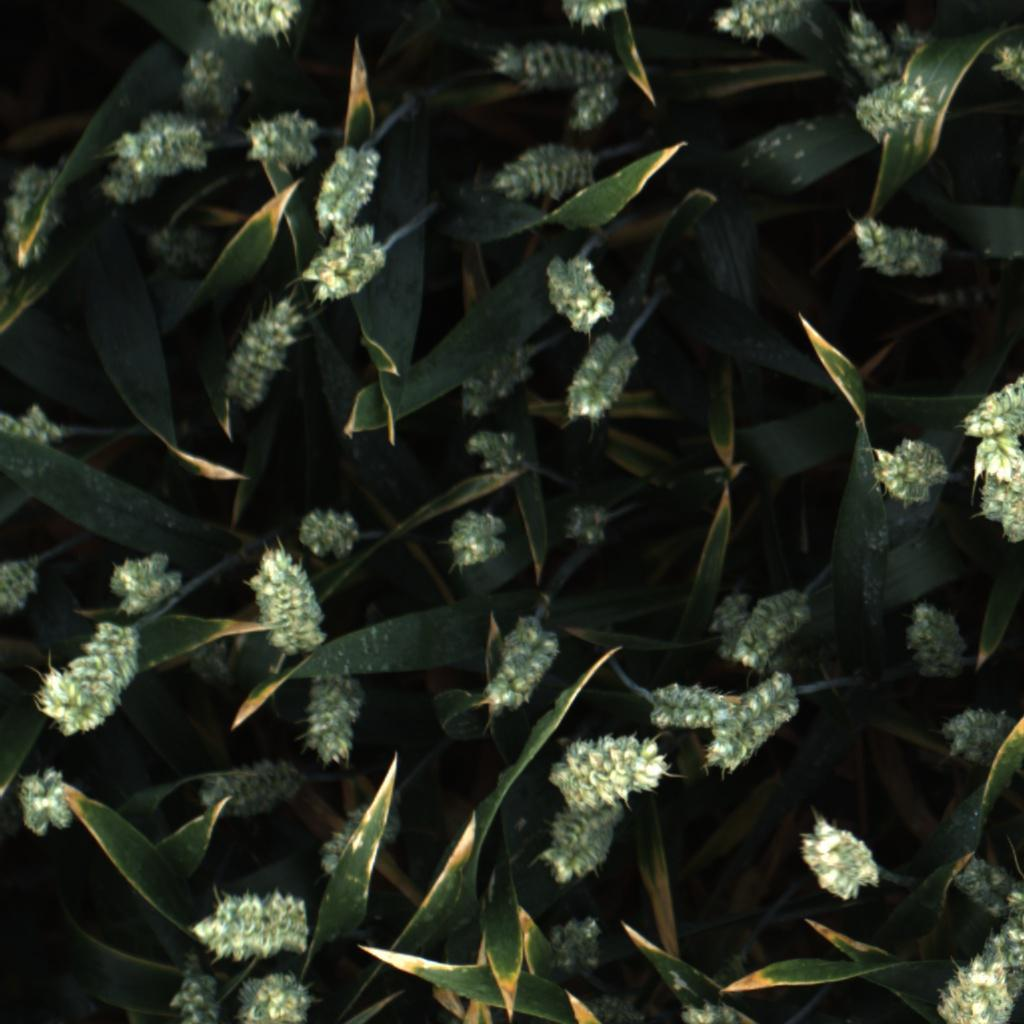0-0: (33, 625, 145, 744), (89, 107, 206, 215), (219, 293, 309, 410), (710, 667, 804, 778), (190, 883, 317, 963), (542, 734, 672, 806), (316, 785, 407, 885), (789, 816, 889, 903), (840, 209, 954, 285), (251, 545, 326, 656), (478, 618, 562, 715), (491, 133, 600, 206), (530, 805, 627, 886), (955, 435, 1024, 544), (562, 330, 638, 427), (537, 248, 622, 334), (304, 226, 394, 306), (861, 428, 952, 507), (898, 595, 977, 683), (489, 38, 613, 94), (301, 672, 370, 772), (733, 587, 815, 671), (8, 158, 68, 269), (195, 753, 299, 815), (310, 143, 383, 228), (849, 77, 940, 144), (108, 545, 184, 620), (700, 584, 757, 681), (942, 700, 1022, 767), (836, 2, 897, 89), (961, 357, 1024, 441), (709, 0, 821, 46), (458, 347, 531, 417), (541, 913, 614, 982), (650, 676, 733, 736), (240, 107, 321, 168), (553, 81, 632, 143), (182, 45, 243, 125), (142, 218, 220, 278), (205, 0, 300, 48), (14, 766, 75, 840), (439, 507, 509, 569), (292, 500, 365, 559), (949, 851, 1013, 916), (235, 970, 312, 1024), (0, 401, 67, 457), (913, 279, 1024, 312), (460, 424, 529, 476), (558, 494, 616, 549), (565, 989, 651, 1024), (163, 975, 224, 1024), (0, 552, 33, 629), (711, 946, 759, 998), (987, 38, 1024, 104), (670, 998, 757, 1024)
